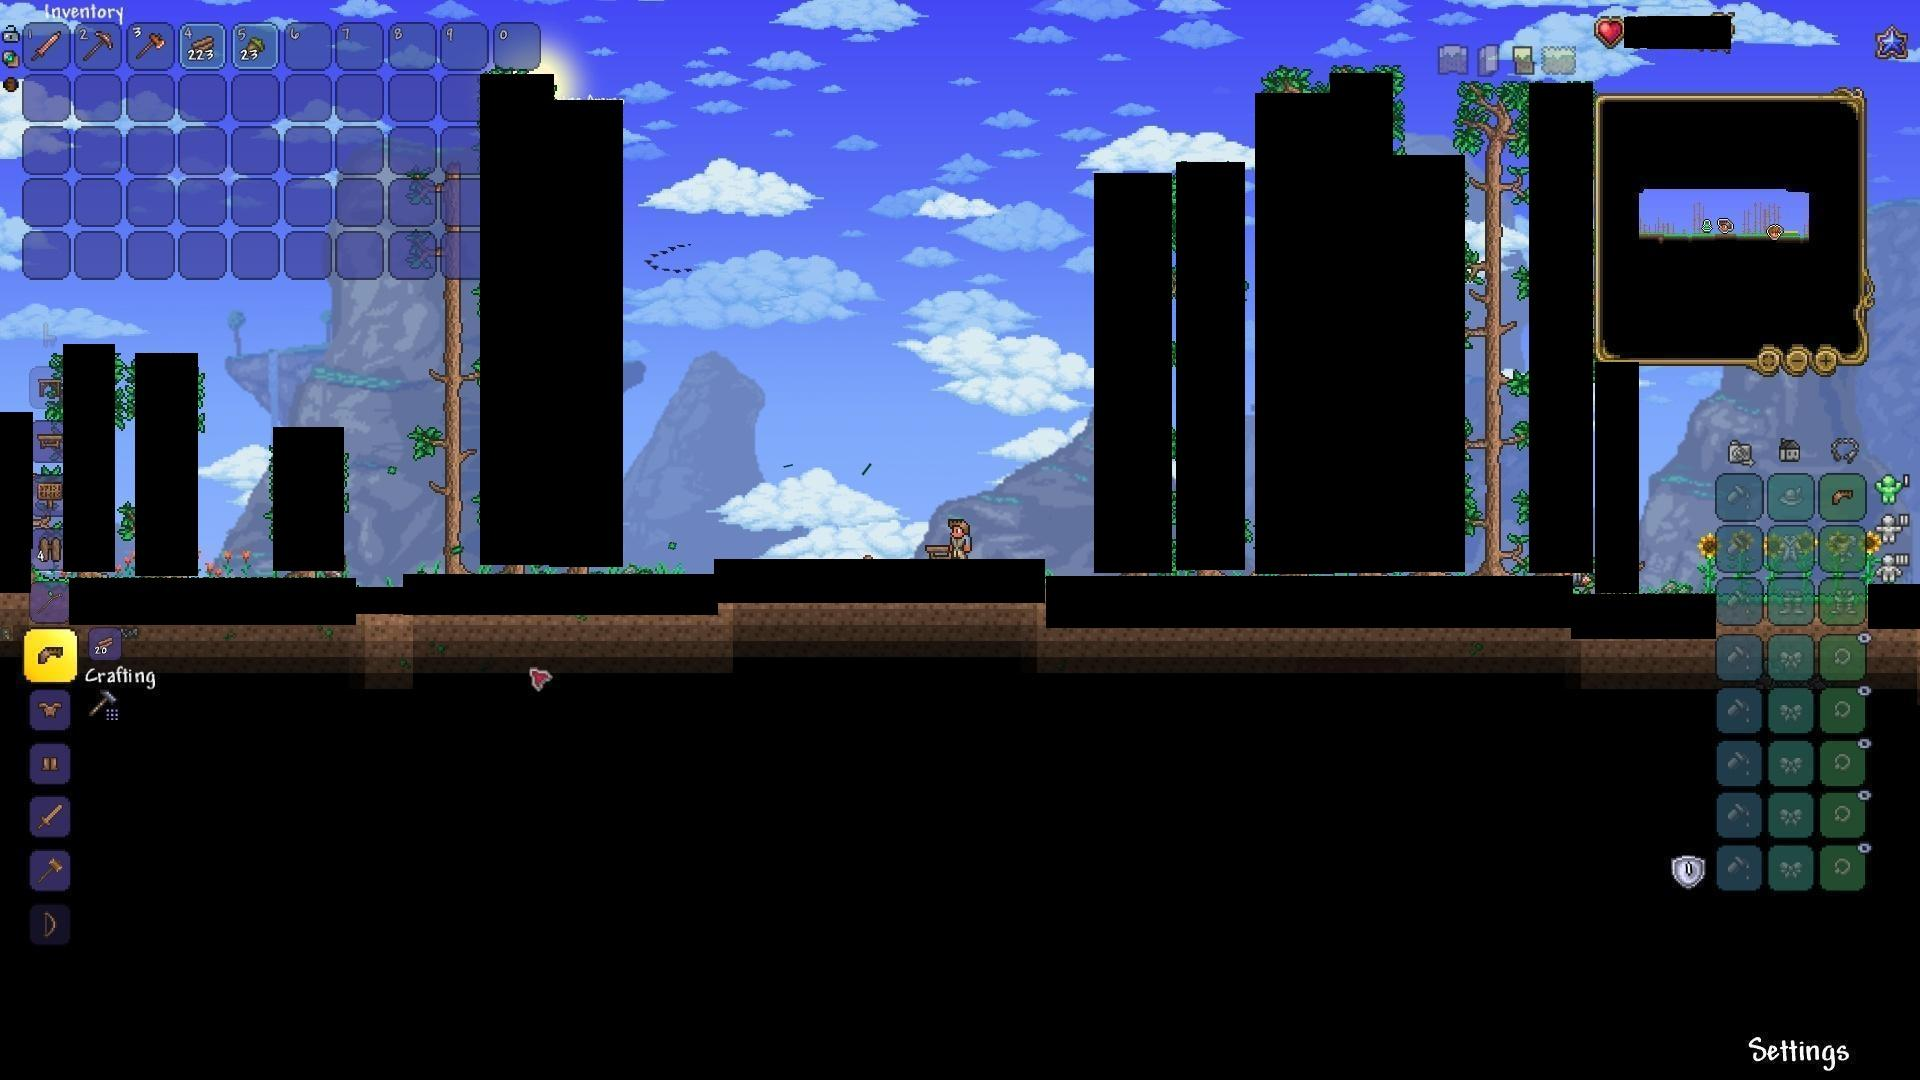breastplate: (37, 696, 65, 716)
heart: (1596, 15, 1627, 45)
helmet: (34, 644, 65, 673), (1826, 483, 1858, 510)
legs: (38, 750, 63, 778)
tree: (1465, 86, 1534, 571), (417, 293, 469, 567)
wood: (189, 32, 216, 55), (96, 632, 113, 653)
workbench: (922, 542, 959, 567)
